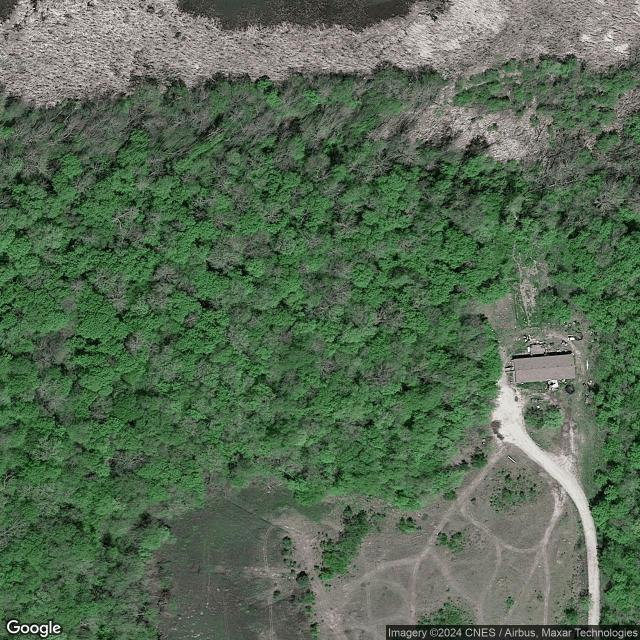Propane: (527, 346, 530, 353)
